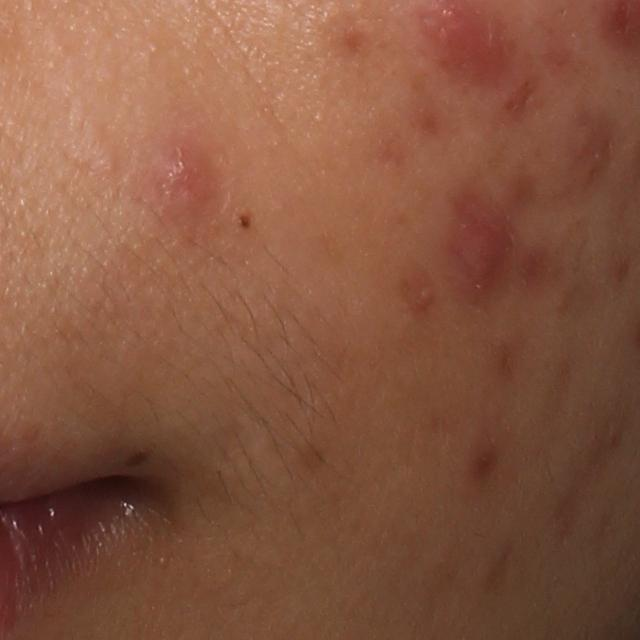nevus: (123, 450, 149, 468), (233, 214, 252, 229)
papule: (142, 144, 224, 224), (453, 221, 509, 289)
